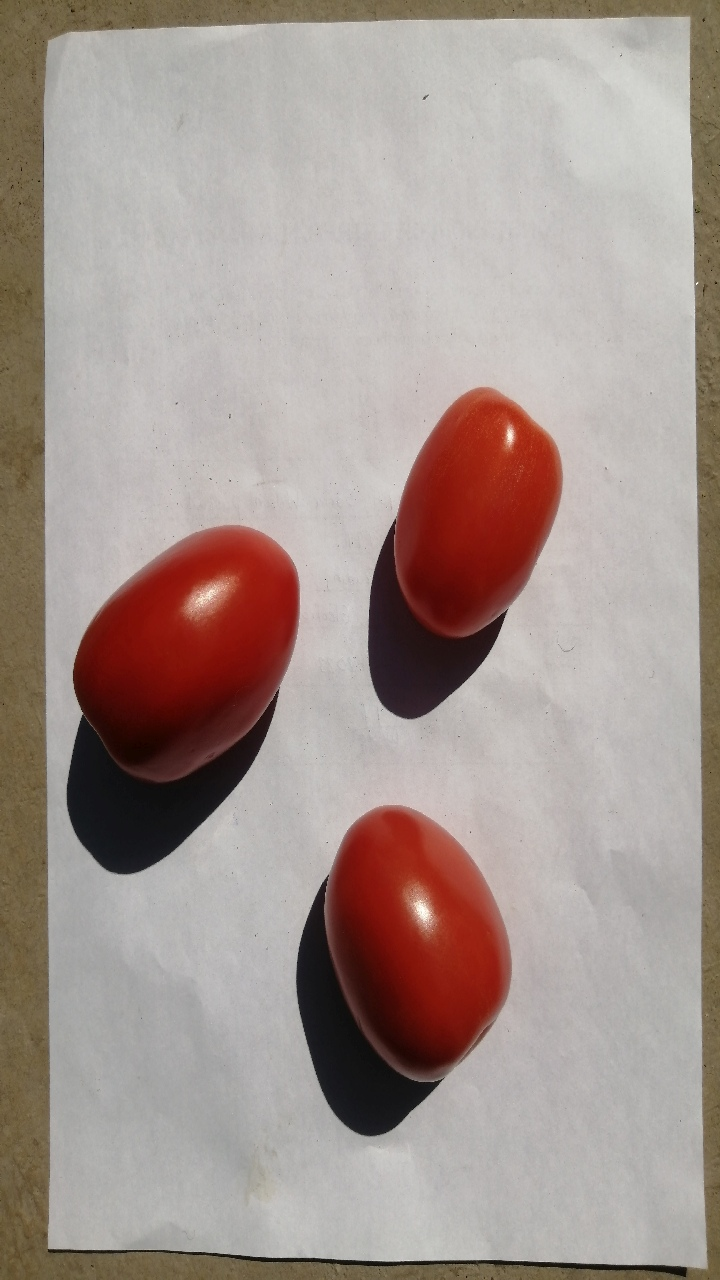tomateRojo: (63, 502, 311, 811), (301, 789, 528, 1103), (371, 372, 583, 651)
